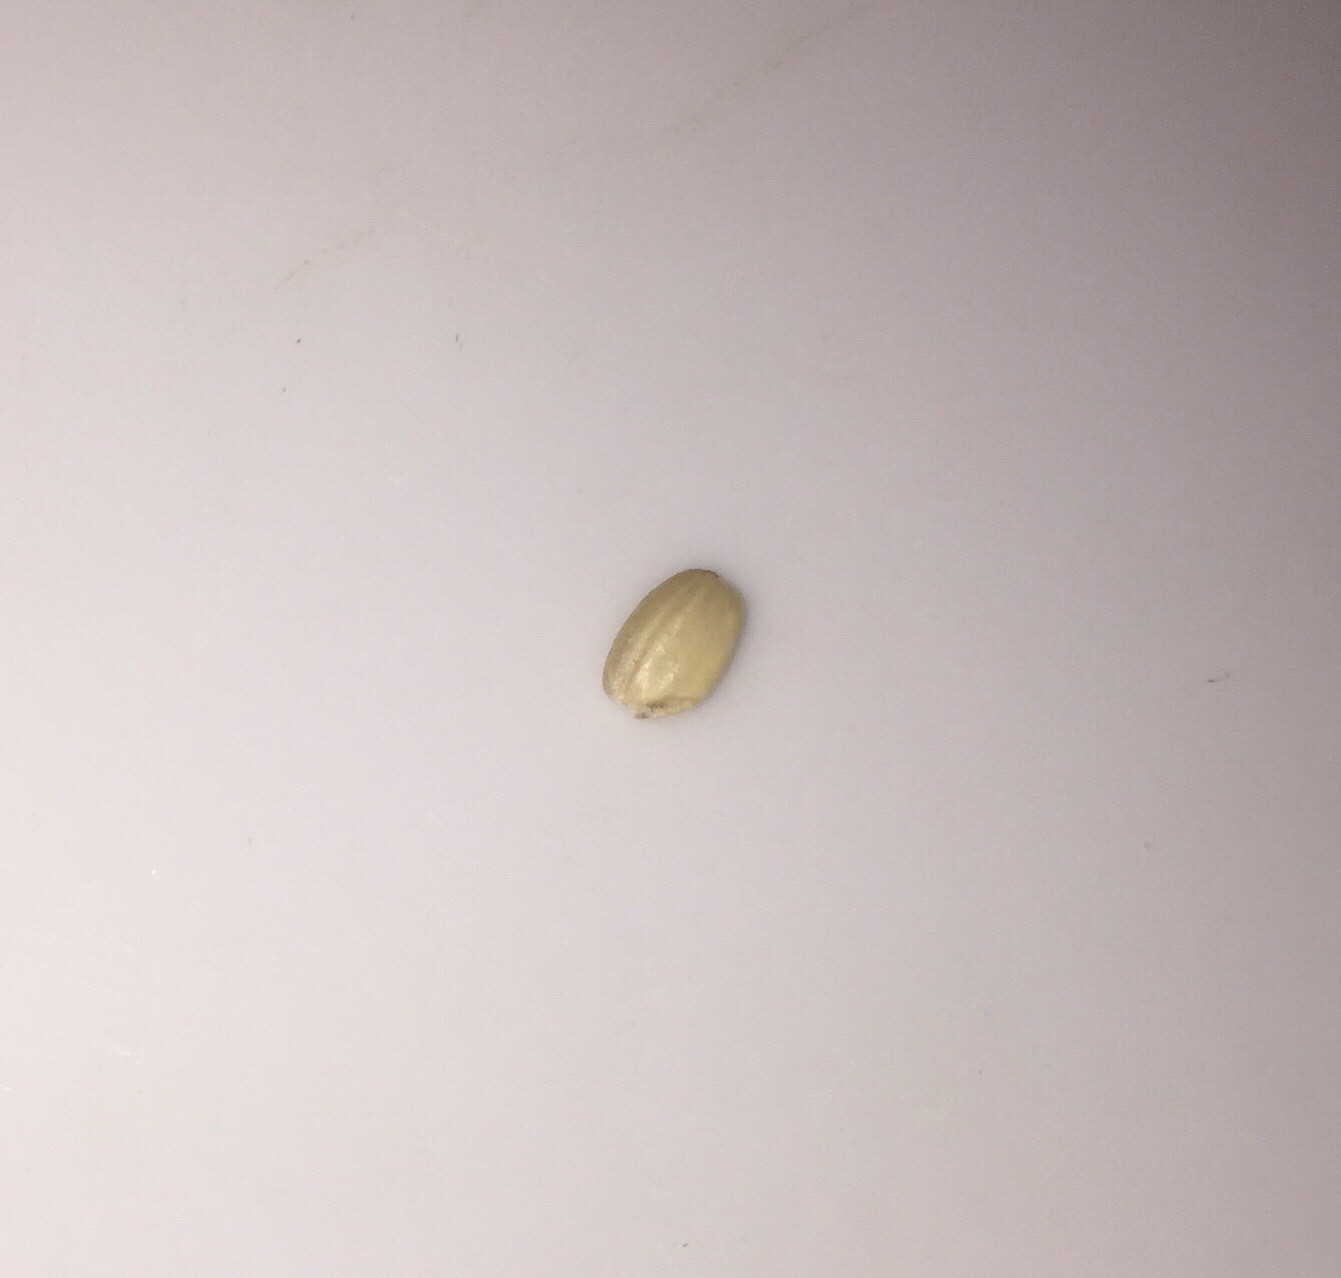Gao Lut Bac: (603, 555, 740, 725)
